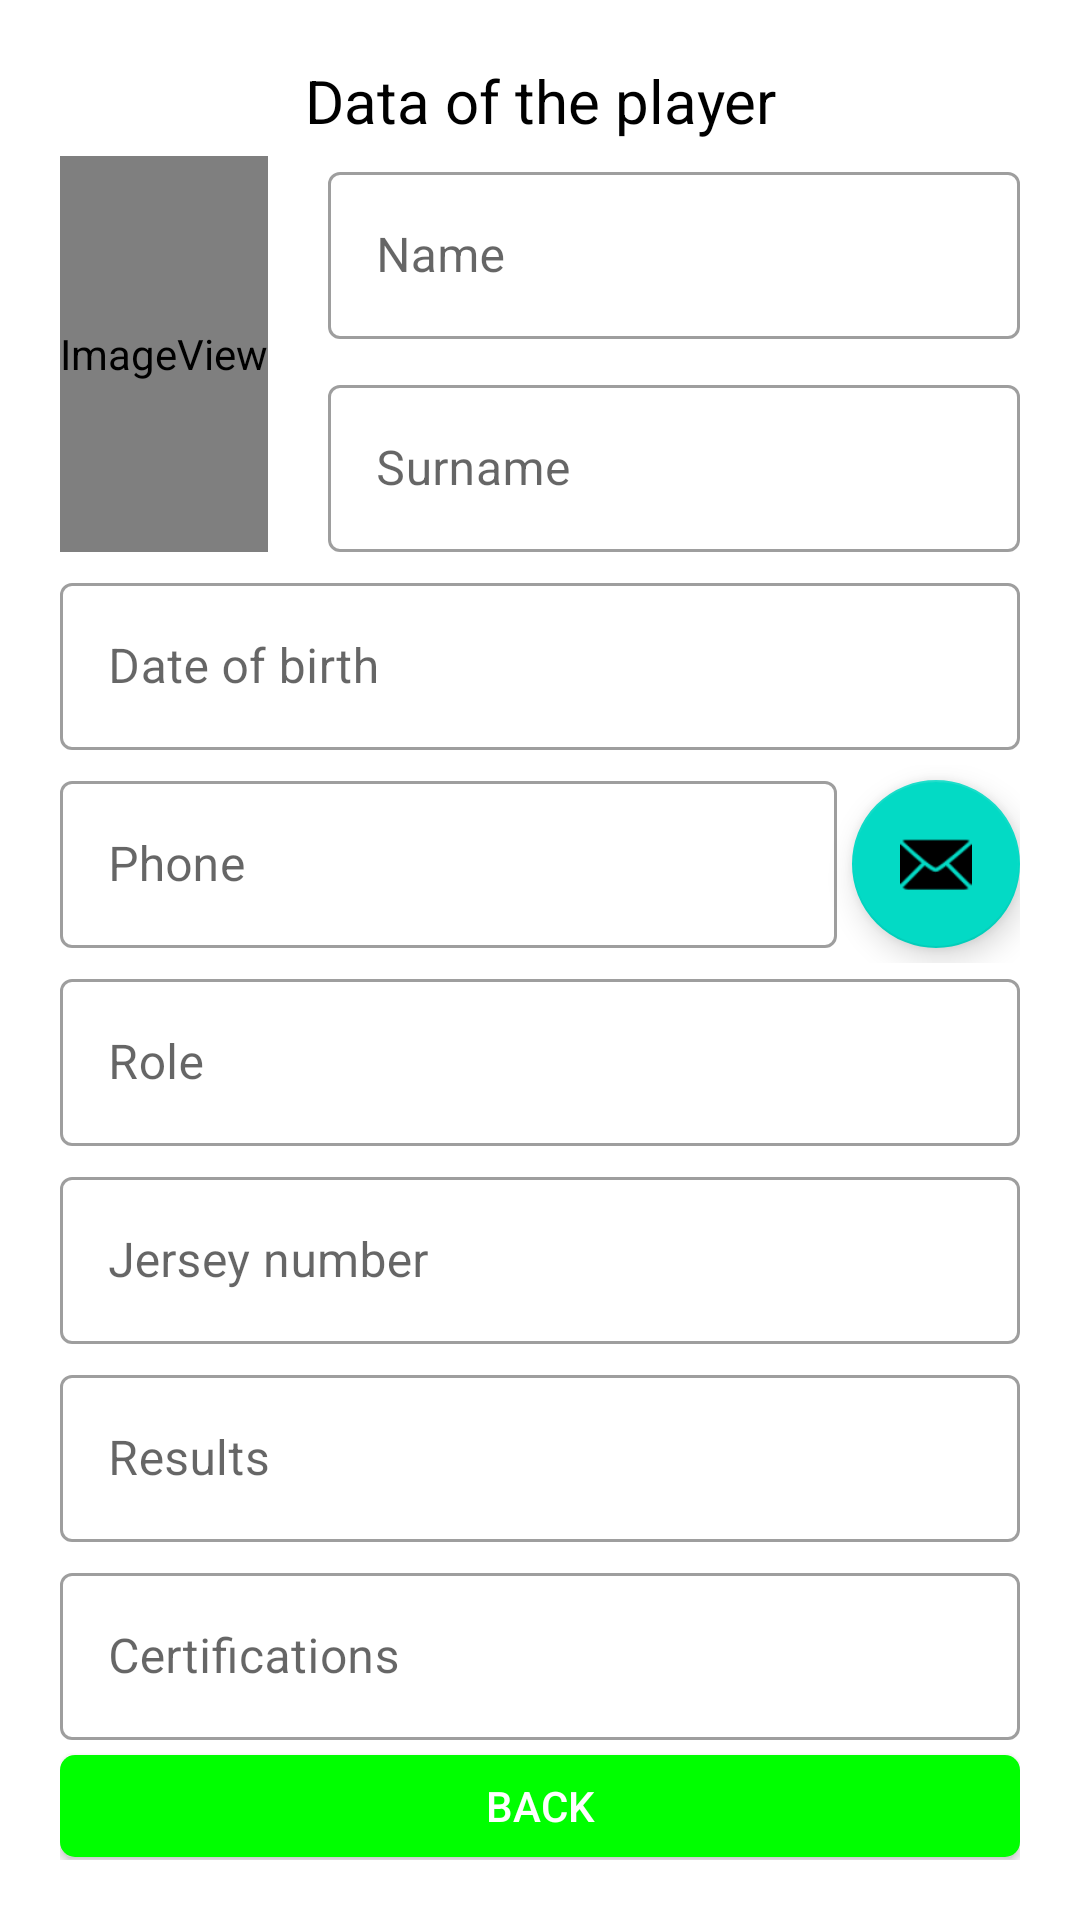

Icons on this 1080×1920 Android screen, each with its box as bbox=(x1, y1, x2, y2):
email: bbox=(852, 780, 1020, 948)
